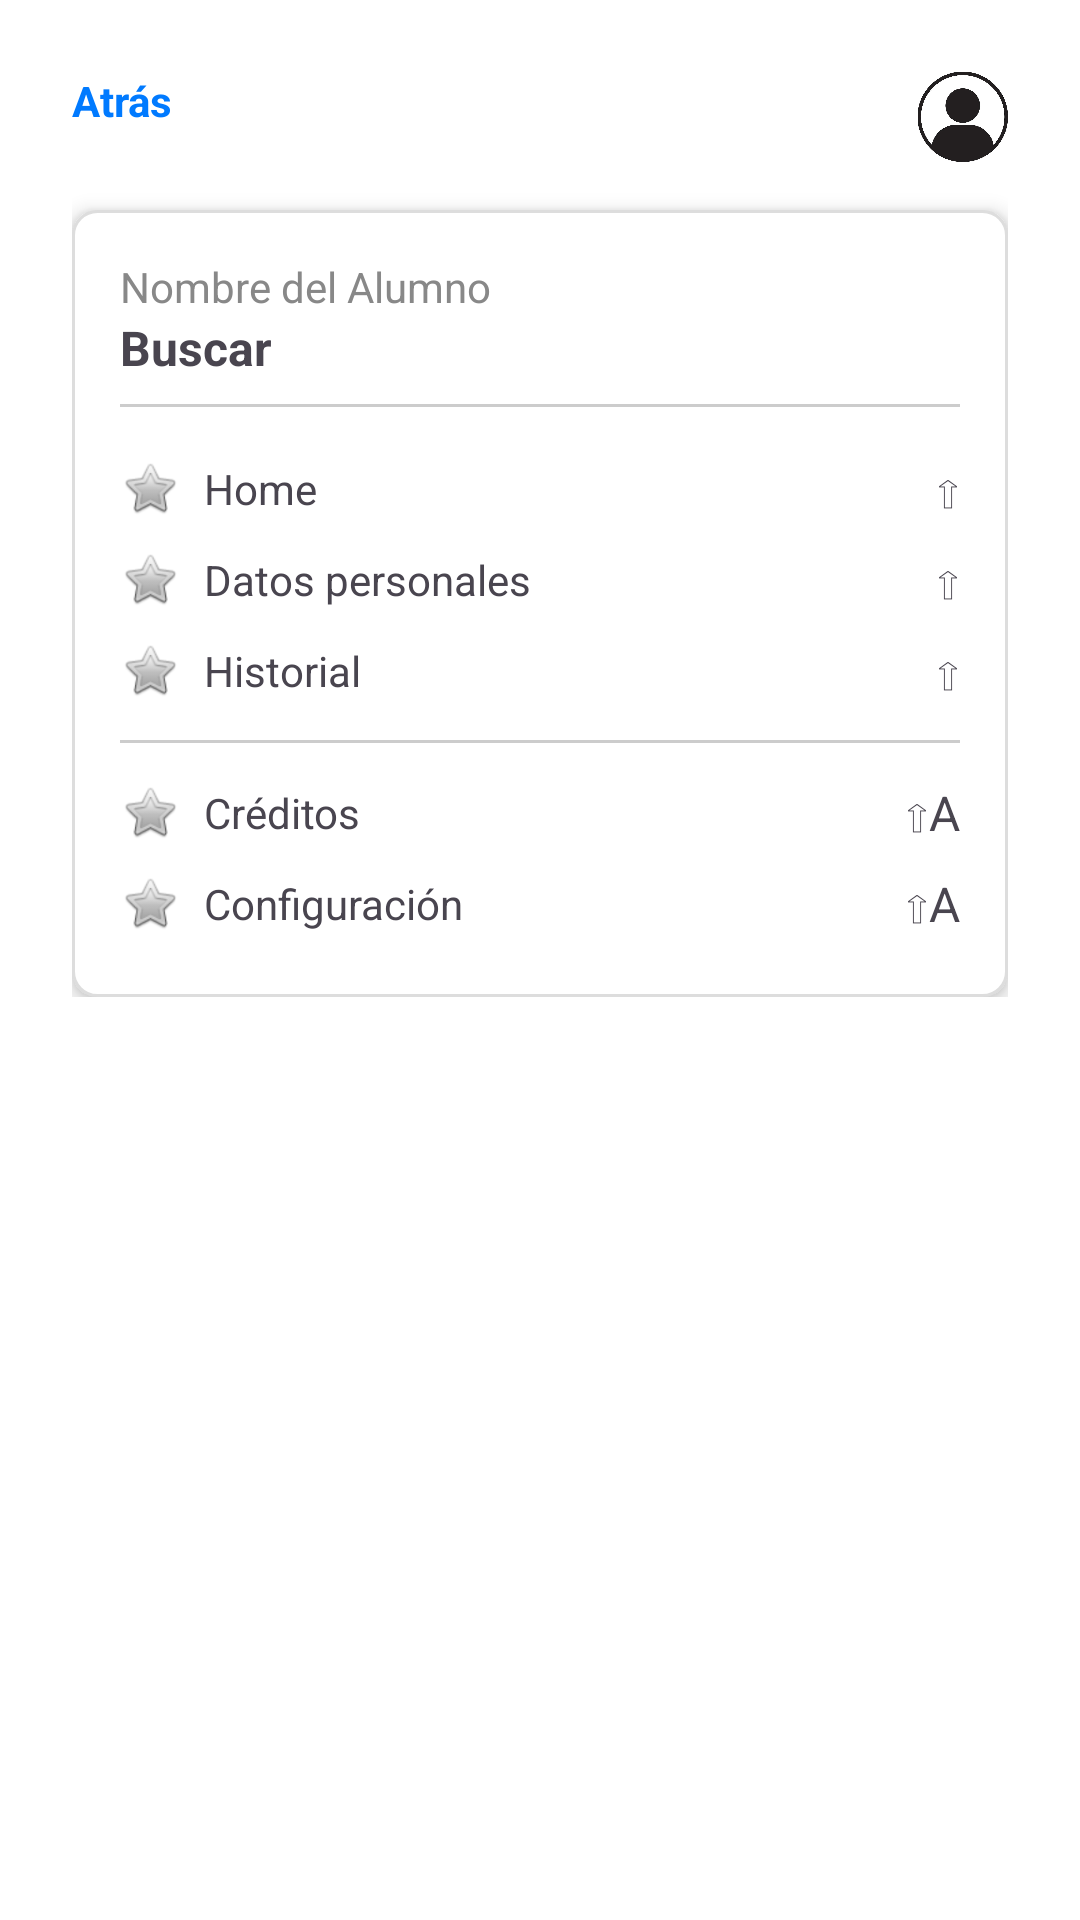

Icons on this 1080x1920 Android screen, each with the point to tap as [x,y]:
star off: [150,488], [150,579], [150,670], [150,812], [150,903]
usuario: [963,117]
